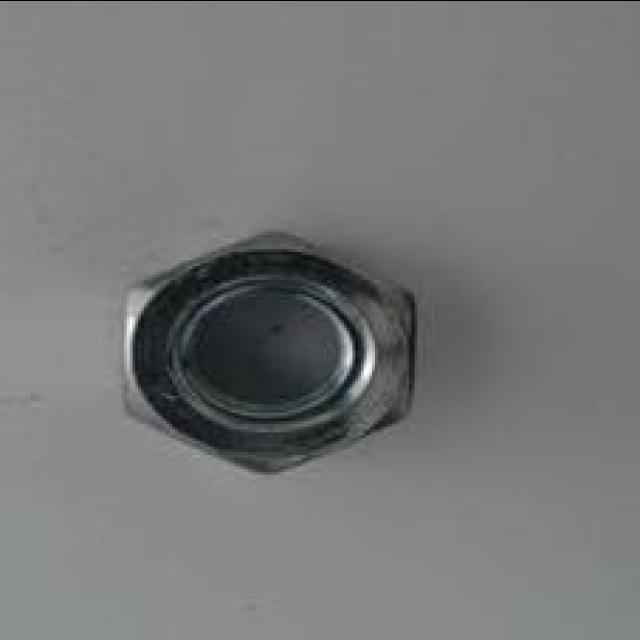ecrouOK: (118, 224, 419, 480)
